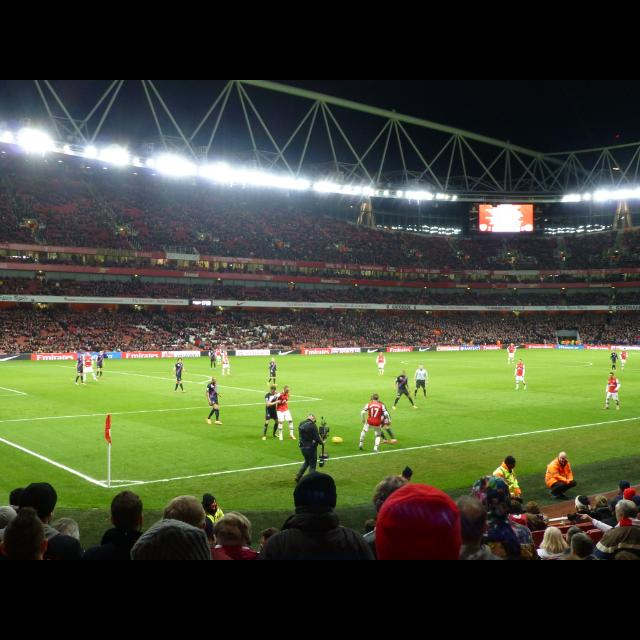Football: (331, 436, 341, 442)
